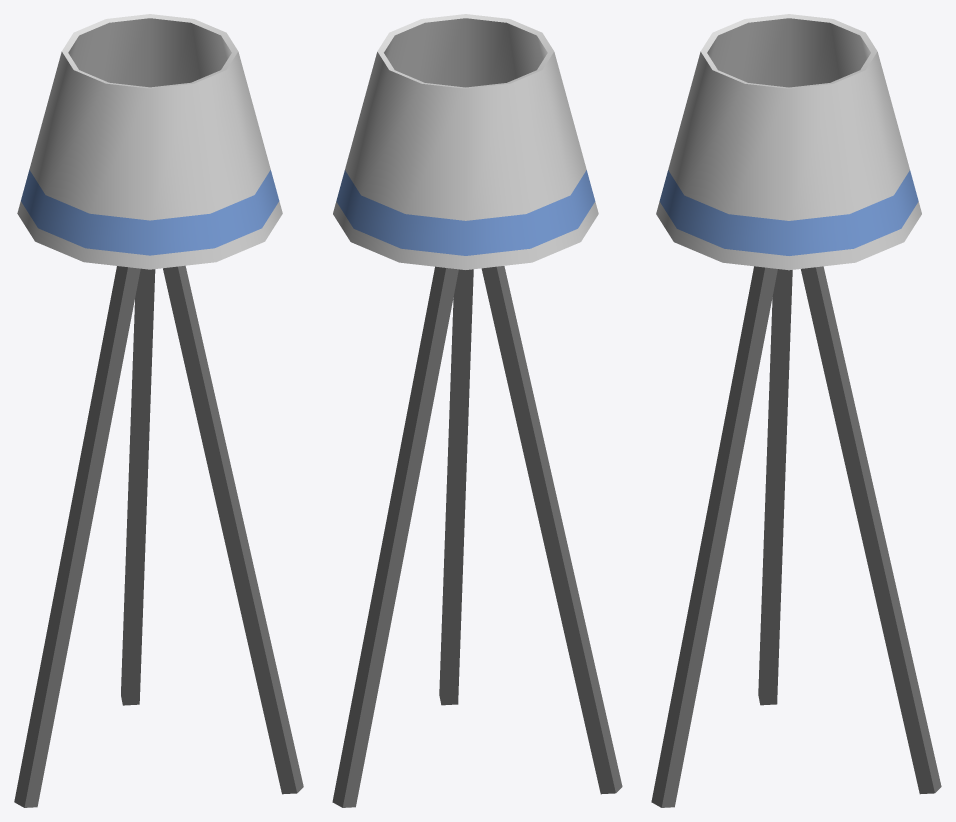
The model's file is Lampara02.fbx.
3 views of the same model, side by side, from view 1: azimuth 30°, elevation 25°; view 2: azimuth 150°, elevation 25°; view 3: azimuth 270°, elevation 25° (orthographic).
Visible parts, largest first — view 1: Lampara02; view 2: Lampara02; view 3: Lampara02.
Part boxes in pixels (x1,y1,x2,y2): Lampara02: [14, 14, 303, 807]; Lampara02: [332, 14, 622, 807]; Lampara02: [651, 14, 941, 807].
Bounding box in the file's own units: 0.4897 × 1.3 × 0.4762.
